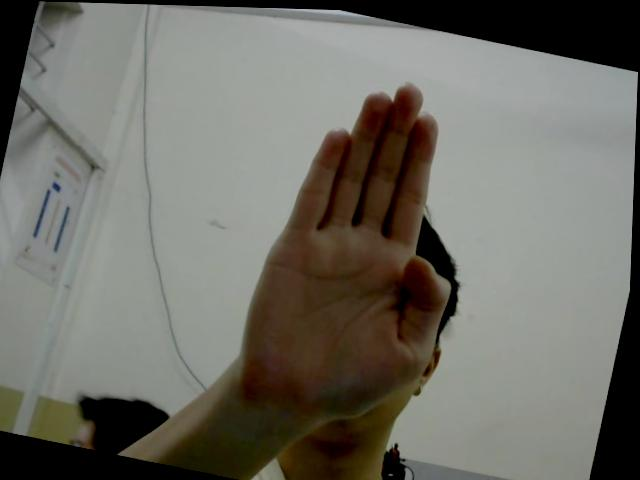B: (230, 56, 493, 438)
